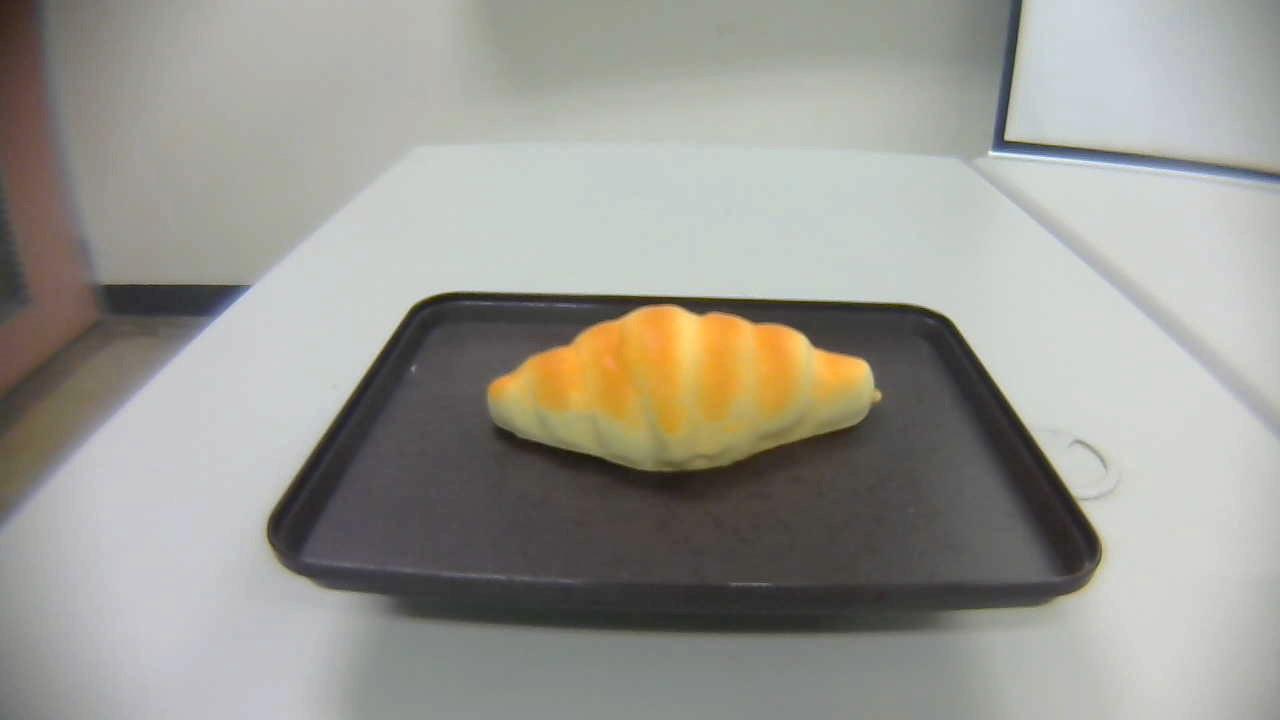croissant: (486, 302, 883, 474)
